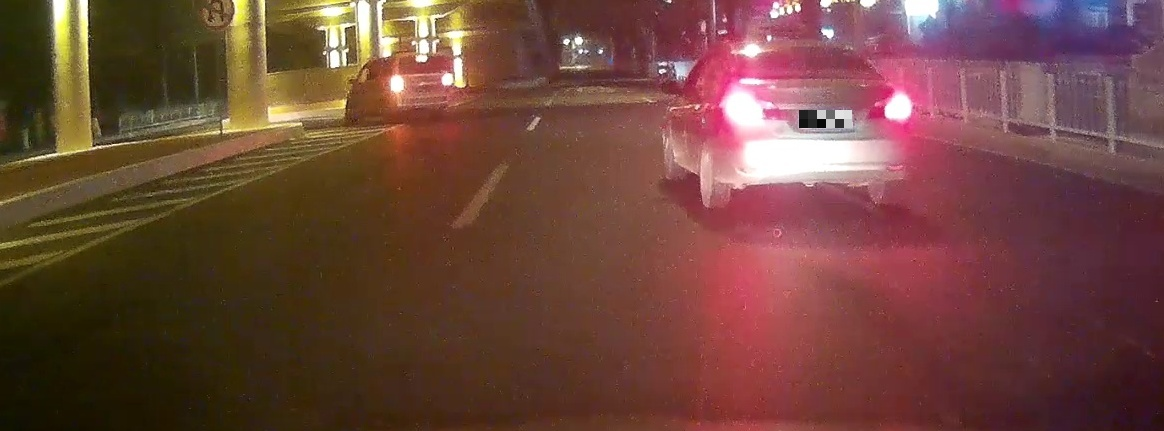L_light: (724, 95, 784, 126), (390, 75, 405, 93)
R_light: (864, 91, 912, 122), (441, 73, 452, 87)
T_light: (793, 47, 818, 52), (415, 55, 428, 63)
night-left: (389, 53, 453, 119)
night-no: (718, 41, 912, 208)
plate_1: (799, 110, 852, 128)
